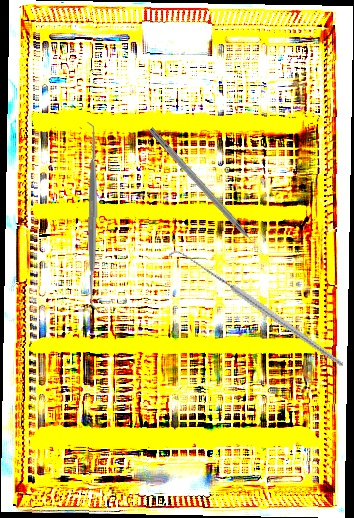Hook Surgical: (167, 205, 345, 414), (146, 126, 268, 259)
Spatula Surgical: (80, 122, 106, 313)
